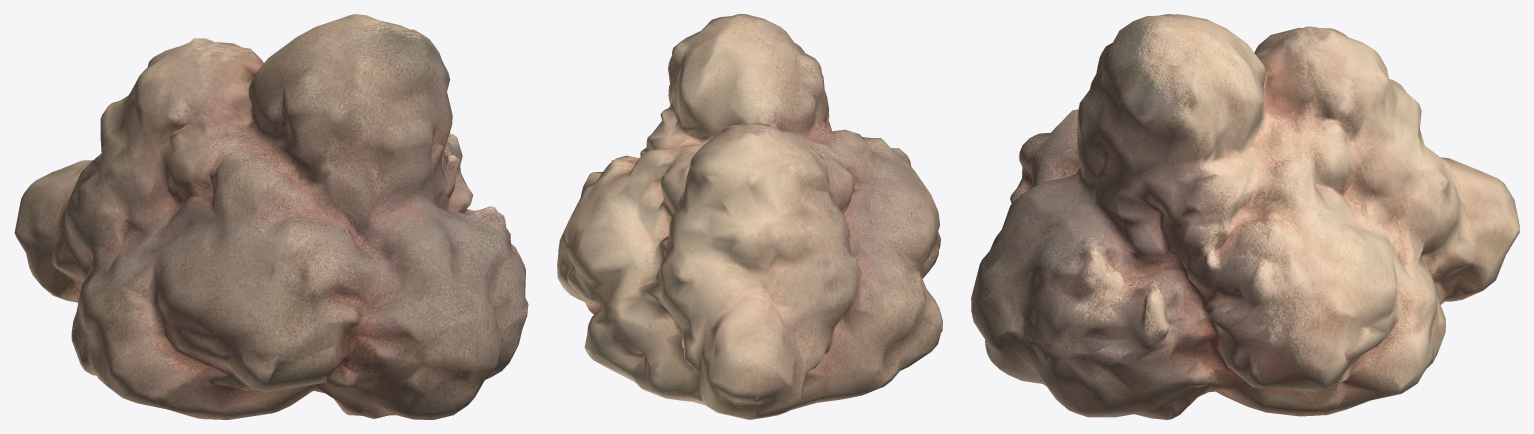
File: boulder.glb
3 renders of one model, left to right at view 1: azimuth 30°, elevation 25°; view 2: azimuth 150°, elevation 25°; view 3: azimuth 270°, elevation 25°, orthographic. The views are drawn at different scales.
Visible parts, largest first — view 1: tripo_node_d043038f-6829-4f39-a2f6-6699cc95e0f8; view 2: tripo_node_d043038f-6829-4f39-a2f6-6699cc95e0f8; view 3: tripo_node_d043038f-6829-4f39-a2f6-6699cc95e0f8.
Boxes of the visible parts, box(x1,y1,x2,y2) form: tripo_node_d043038f-6829-4f39-a2f6-6699cc95e0f8: box(14, 14, 528, 419); tripo_node_d043038f-6829-4f39-a2f6-6699cc95e0f8: box(557, 14, 942, 419); tripo_node_d043038f-6829-4f39-a2f6-6699cc95e0f8: box(971, 14, 1519, 419).
Bounding box in the file's own units: 0.8584 × 0.7264 × 0.9998.
Materials: 1 (1 with a texture image).
